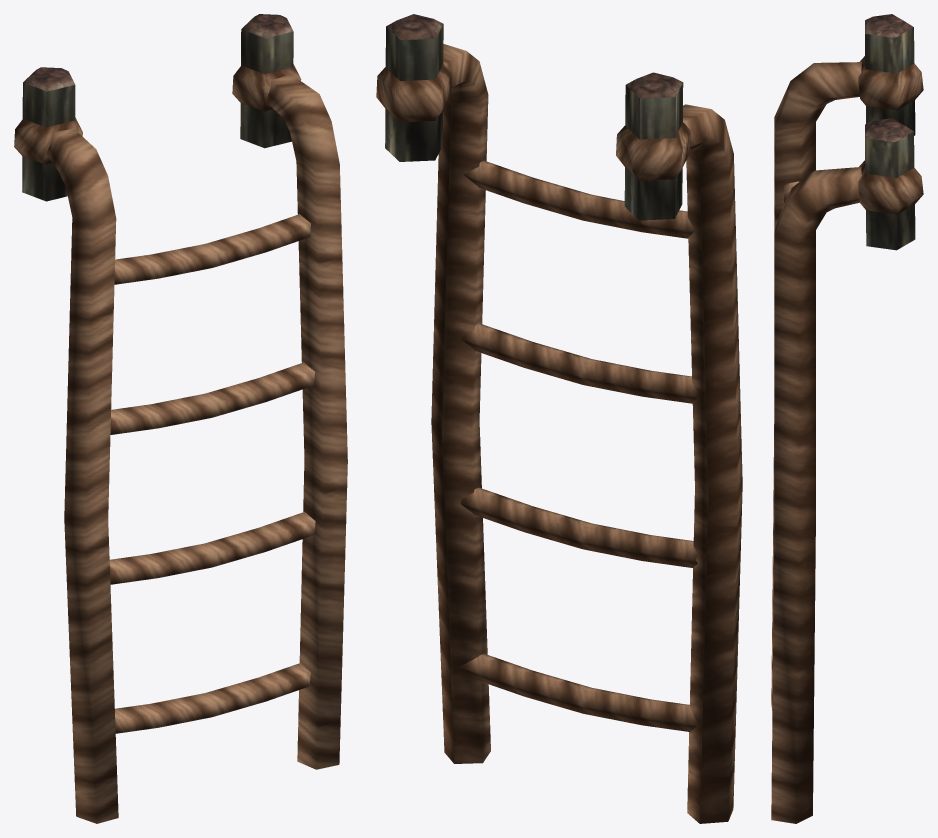
File: rope-ladder-01.fbx
3 renders of one model, left to right at view 1: azimuth 30°, elevation 25°; view 2: azimuth 150°, elevation 25°; view 3: azimuth 270°, elevation 25°, orthographic. The views are drawn at different scales.
Parts seen in each view (by area): view 1: Cylinder.078; view 2: Cylinder.078; view 3: Cylinder.078.
Part boxes in pixels (x1,y1,x2,y2): Cylinder.078: [14, 14, 347, 823]; Cylinder.078: [376, 14, 742, 823]; Cylinder.078: [771, 14, 923, 823].
Size of the model in its own units: 0.9763 by 2.35 by 0.471.
